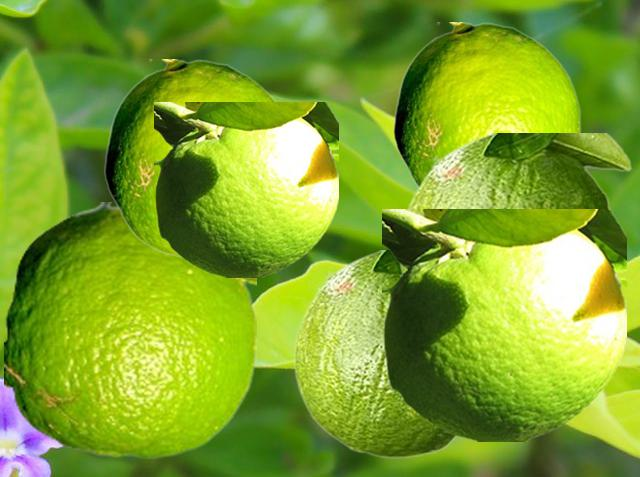dalandan: (4, 202, 255, 457), (382, 209, 625, 440), (104, 59, 276, 257), (293, 250, 456, 457), (398, 133, 631, 275), (154, 102, 337, 276), (393, 22, 580, 186)
